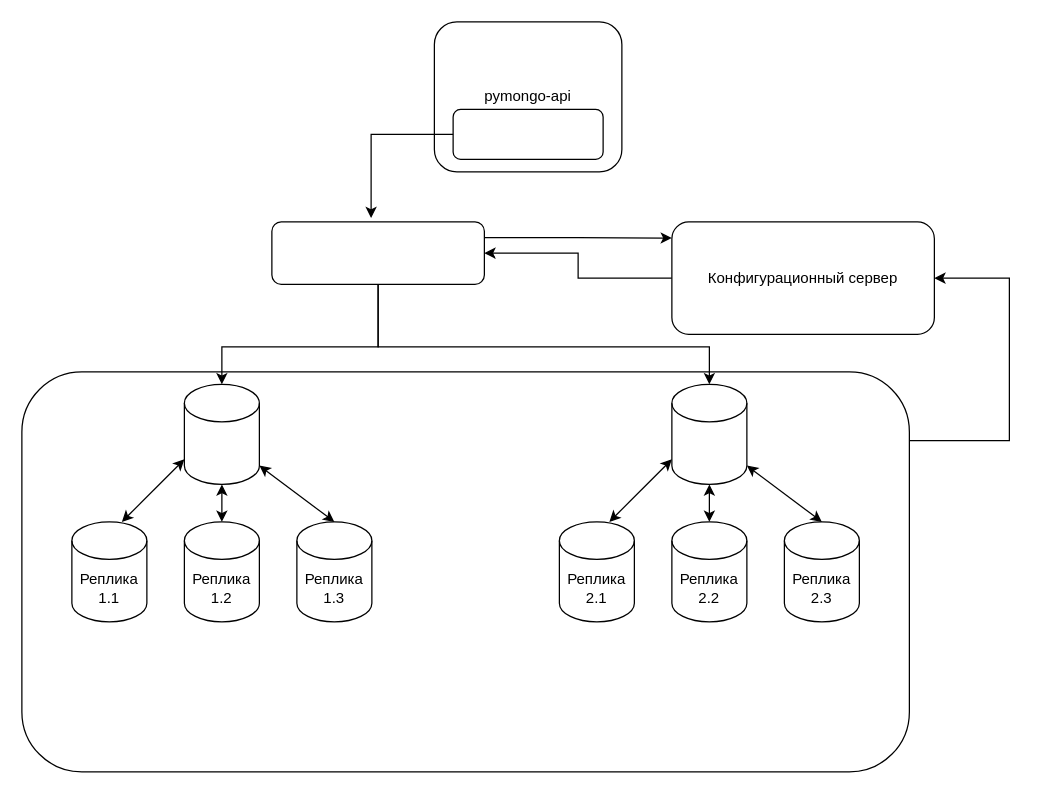
The diagram is 1041 pixels wide and 794 high, and some of its shapes have lost their labels. The centre of each missing label's shape, as x and y in pixels:
"Драйвер приложения" belongs at (527,133).
"Мастер Шард 1" belongs at (221,433).
"Мастер Шард 2" belongs at (709,433).
"Роутер" belongs at (377,252).
